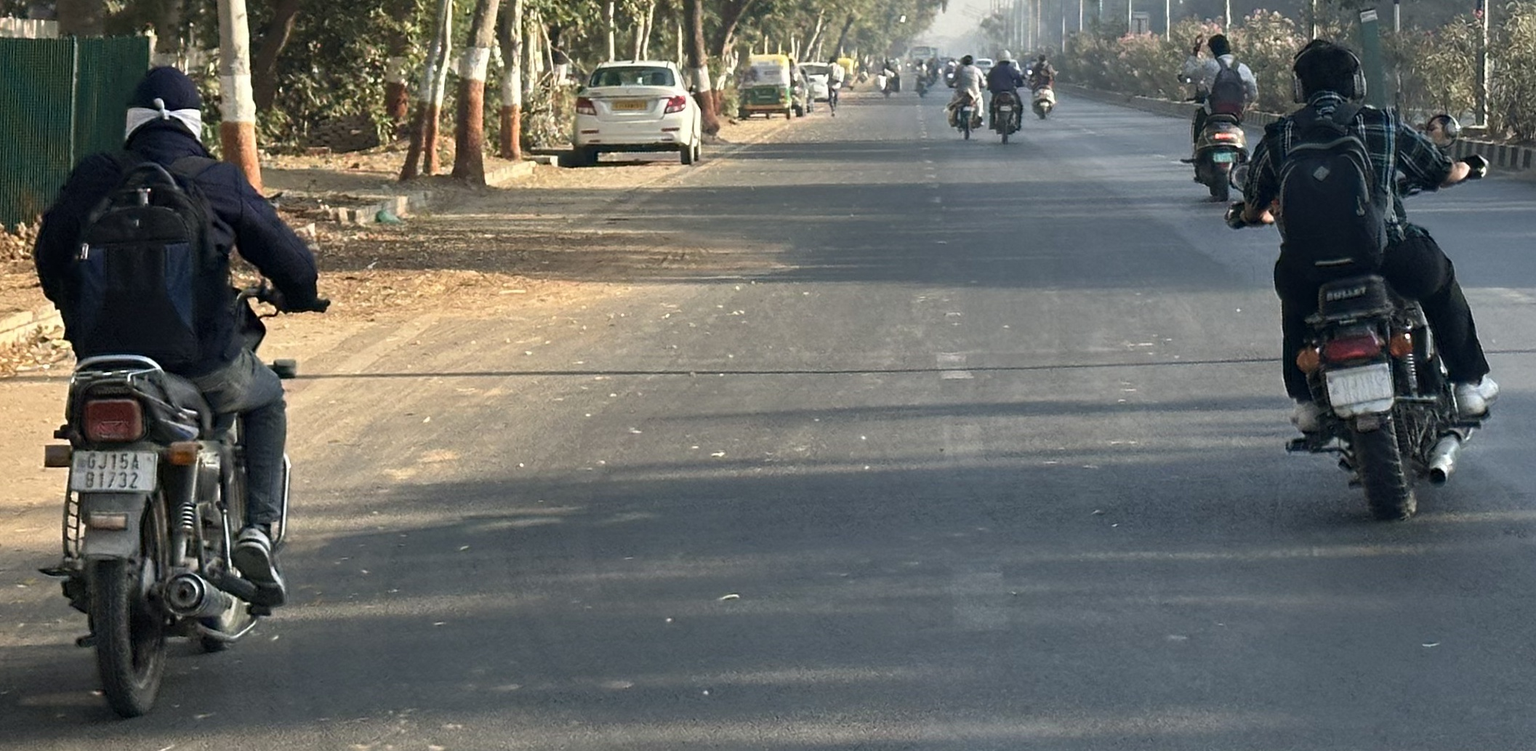BikeWithRider: (19, 57, 339, 727), (1218, 29, 1509, 530), (1169, 25, 1268, 206), (980, 47, 1033, 146), (940, 49, 989, 142), (1021, 49, 1063, 124)
NoHelmet: (107, 59, 218, 155), (1277, 32, 1376, 114), (1204, 29, 1237, 62)
